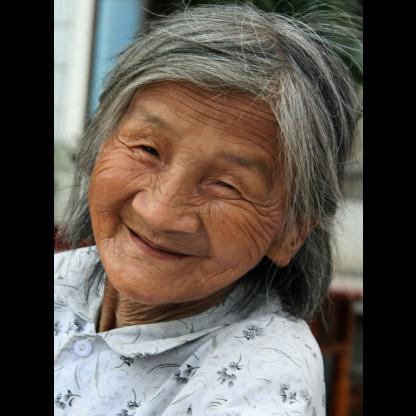Female: (87, 80, 308, 302)
